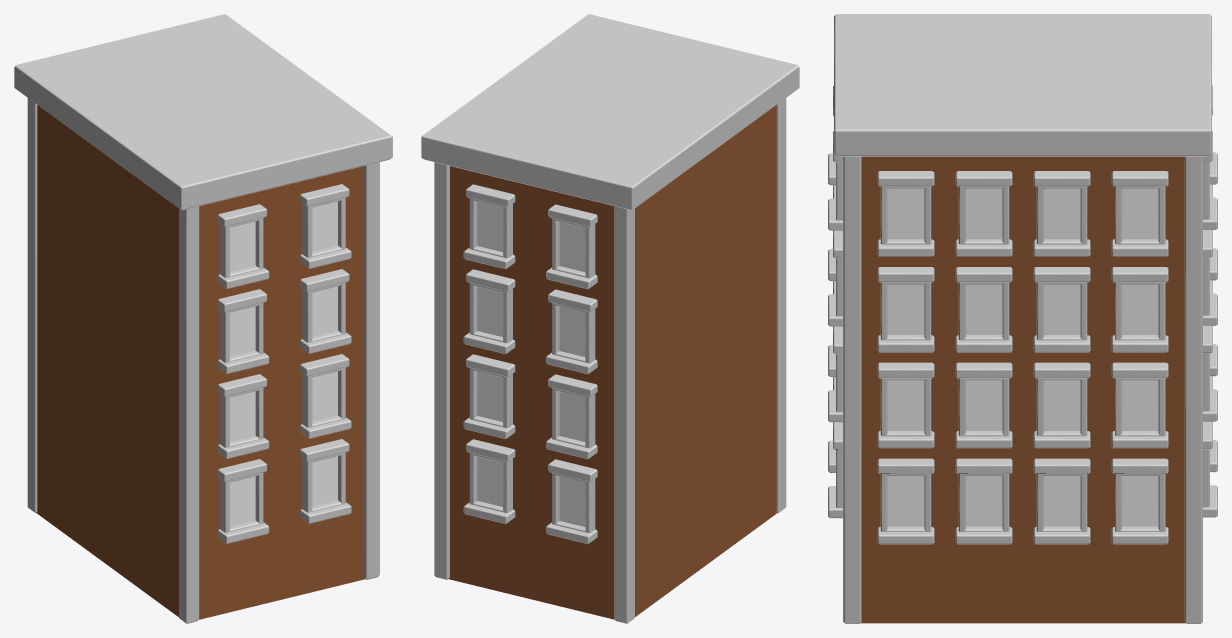
The model's file is SM_Building.fbx.
3 views of the same model, side by side, from view 1: azimuth 30°, elevation 25°; view 2: azimuth 150°, elevation 25°; view 3: azimuth 270°, elevation 25° (orthographic). The views are drawn at different scales.
Parts seen in each view (by area): view 1: Building; view 2: Building; view 3: Building.
Boxes of the visible parts, x1,y1,x2,y2 form: Building: (14,14,392,623); Building: (421,14,799,623); Building: (828,14,1217,623).
Size of the model in its own units: 946 by 1851 by 1308.
